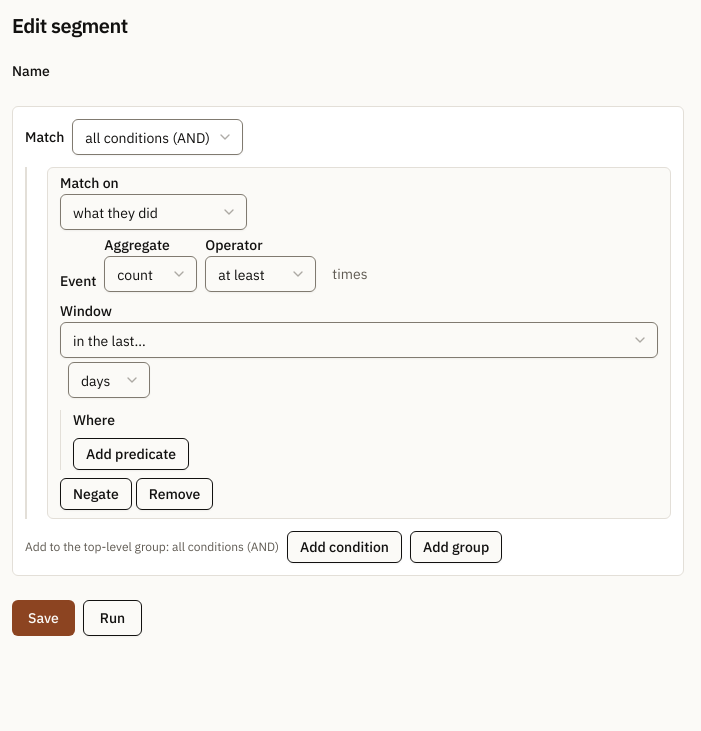
Test: SegmentBuilder -- live counts › re-enables Run when an abandoned request lands late, even though no replacement request was ever issued
expect the element with test id "condition-0" is shown: met, box [47, 167, 671, 519]
Click the button "Negate". click: (96, 494)
box: [60, 478, 132, 510]
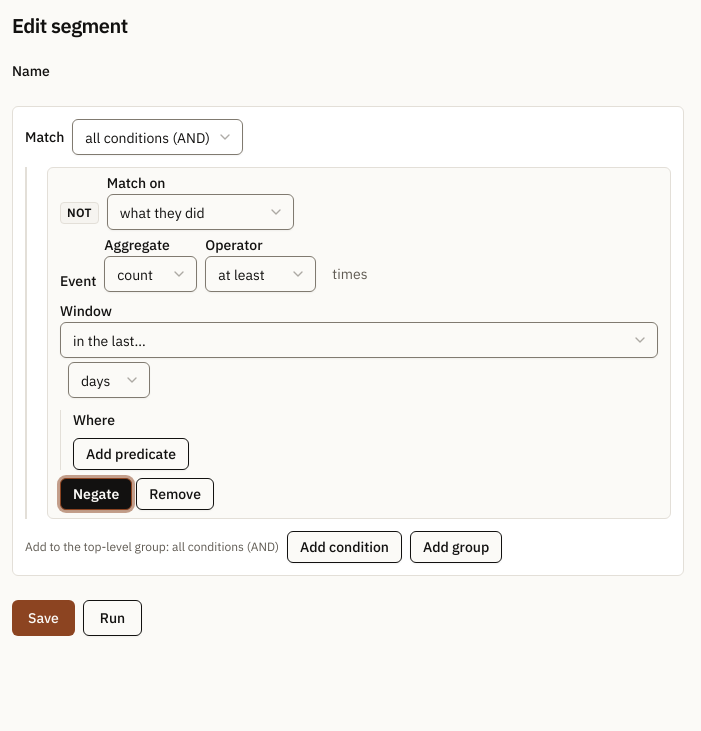
Click the button "Negate". click: (96, 494)
box: [60, 478, 132, 510]
Wait 600 ms
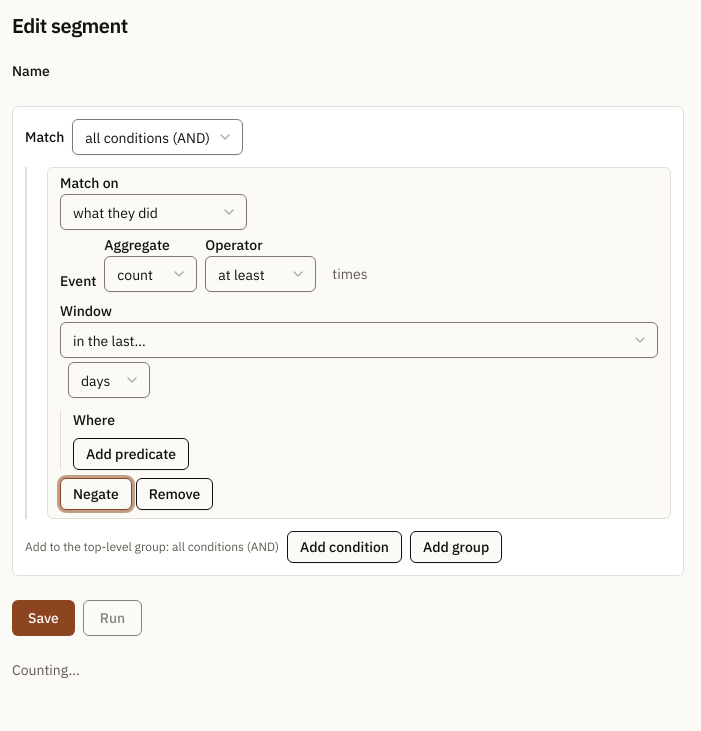
expect the button "Run" is disabled: met, box [83, 600, 142, 636]
Select "any time" in the dropdown labelled "Window". click: (359, 340)
box: [60, 322, 658, 358]
Wait 2400 ms
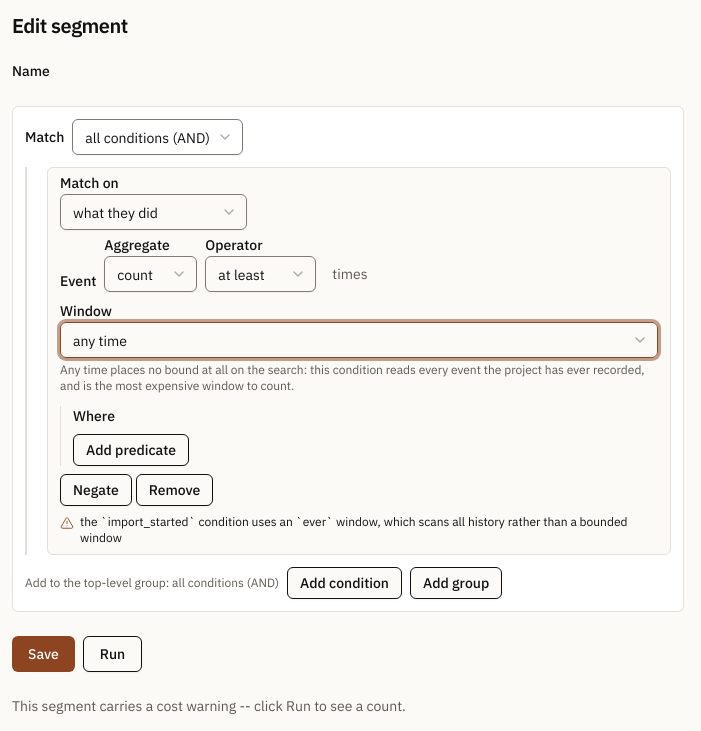
expect the text "scans all history" is shown: met, box [80, 514, 628, 545]
expect the button "Run" is enabled: met, box [83, 636, 142, 672]
